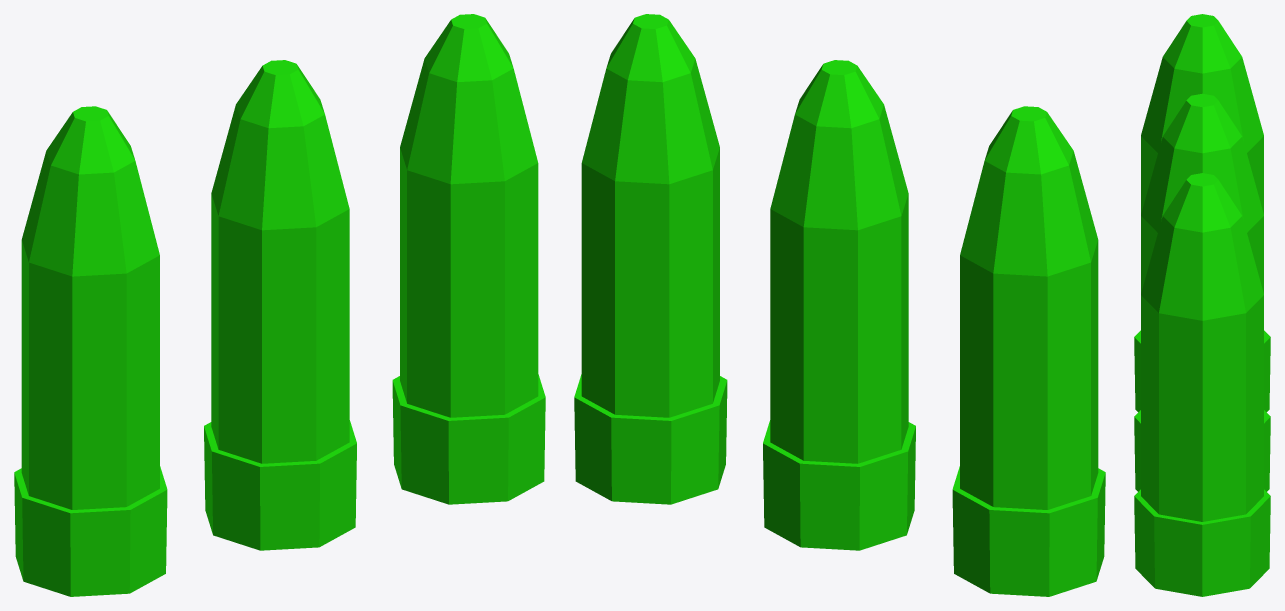
The model's file is PowerUp.fbx.
3 views of the same model, side by side, from view 1: azimuth 30°, elevation 25°; view 2: azimuth 150°, elevation 25°; view 3: azimuth 270°, elevation 25° (orthographic). The views are drawn at different scales.
Visible parts, largest first — view 1: Cylinder003; view 2: Cylinder003; view 3: Cylinder003.
Boxes of the visible parts, x1,y1,x2,y2 form: Cylinder003: (14,14,545,596); Cylinder003: (574,14,1105,596); Cylinder003: (1134,14,1270,596).
Bounding box in the file's own units: 41.59 × 34.79 × 11.08.
